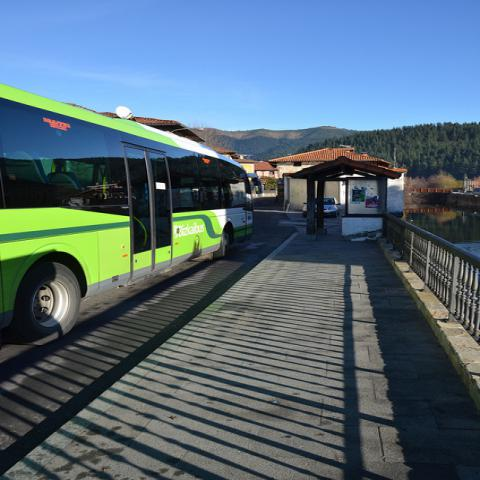bus: (0, 83, 264, 346)
car: (301, 197, 339, 217)
